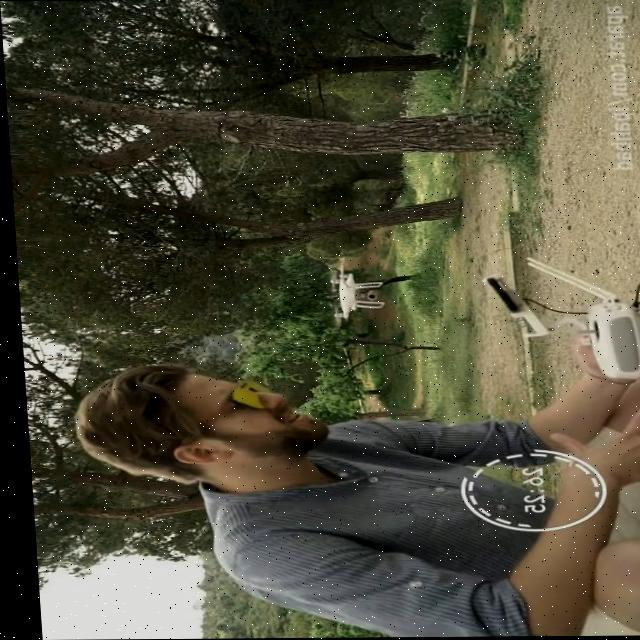drone: (318, 262, 381, 330)
